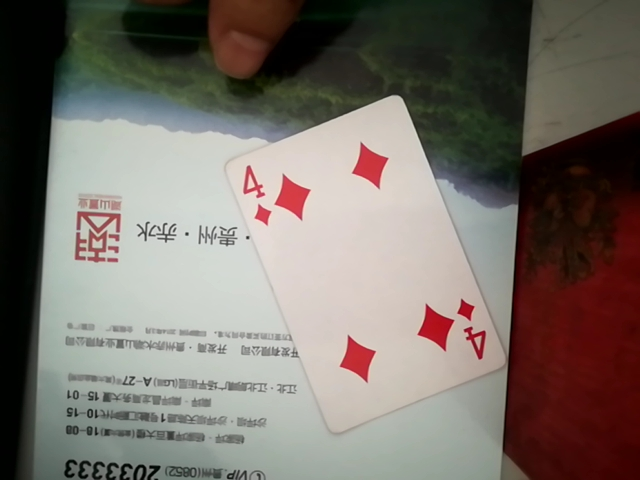fk 4: (217, 79, 512, 438)
